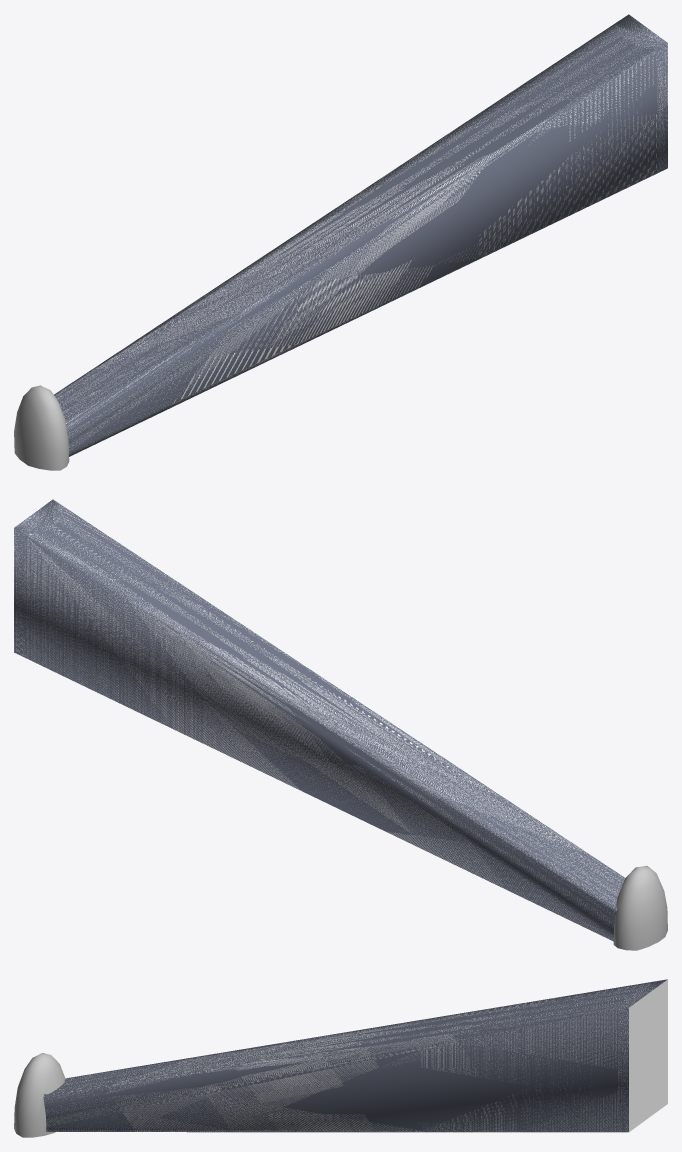
File: original-29.obj
The picture shows the model from 3 angles, top to bottom: view 1: azimuth 30°, elevation 25°; view 2: azimuth 150°, elevation 25°; view 3: azimuth 330°, elevation 25°; orthographic projection.
Parts seen in each view (by area): view 1: mesh25/mesh25-geometry#mesh25-geometry; view 2: mesh25/mesh25-geometry#mesh25-geometry; view 3: mesh25/mesh25-geometry#mesh25-geometry.
Boxes of the visible parts, x1,y1,x2,y2 form: mesh25/mesh25-geometry#mesh25-geometry: (14,14,667,470); mesh25/mesh25-geometry#mesh25-geometry: (14,499,667,950); mesh25/mesh25-geometry#mesh25-geometry: (14,979,667,1137).
Size of the model in its own units: 0.3347 by 0.1416 by 0.0371.
